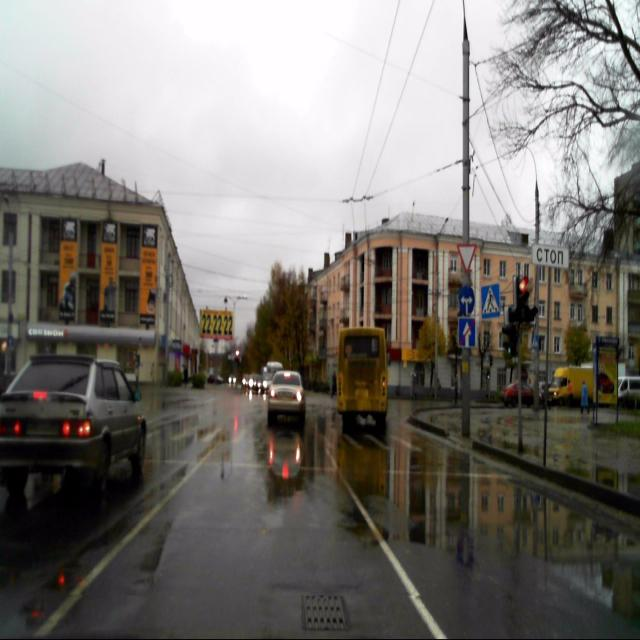road sign: (532, 243, 570, 268), (481, 284, 500, 320), (458, 243, 476, 276), (458, 317, 476, 347), (531, 334, 540, 348)
